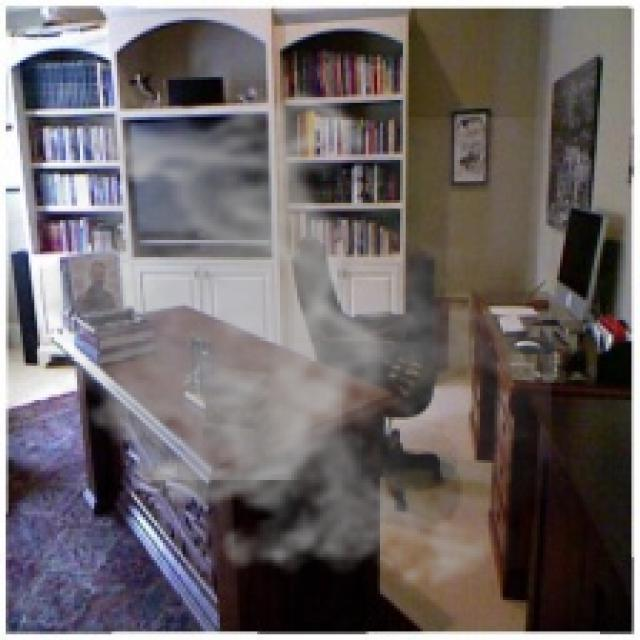Smoke: (14, 83, 552, 603)
